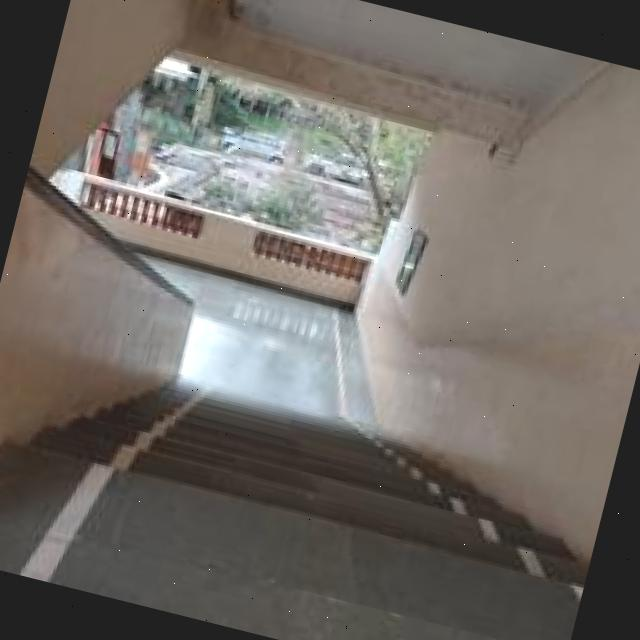stairs: (0, 288, 612, 640)
